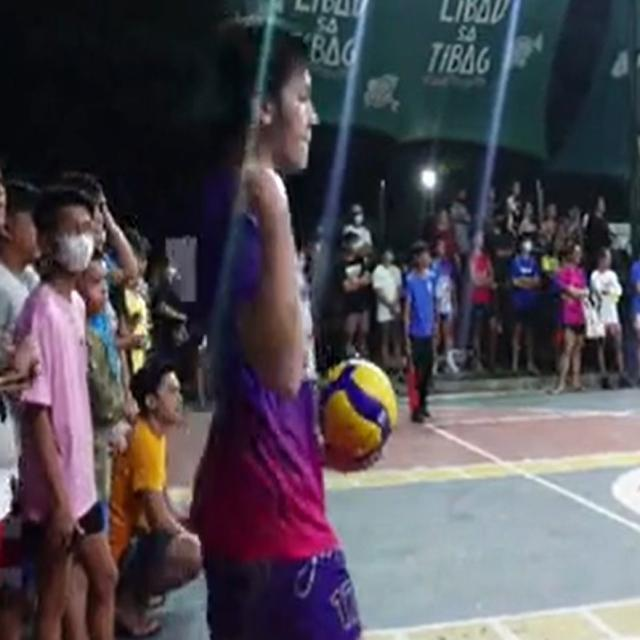volleyball: (317, 359, 397, 456)
